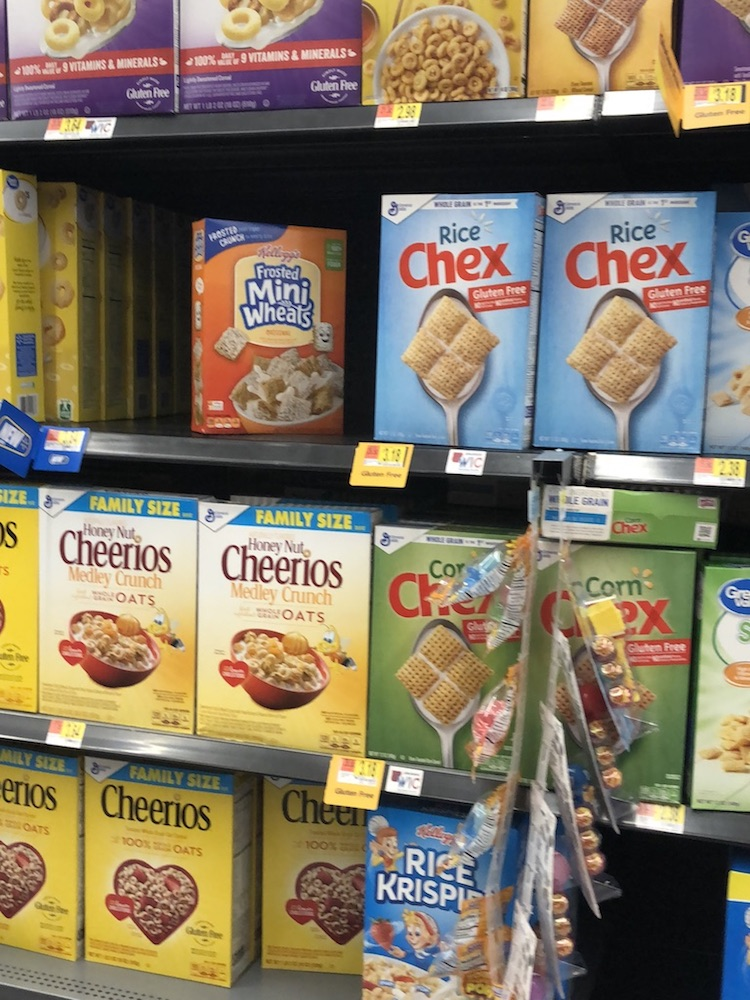Frosted Mini Original -9295869: (192, 220, 353, 440)
